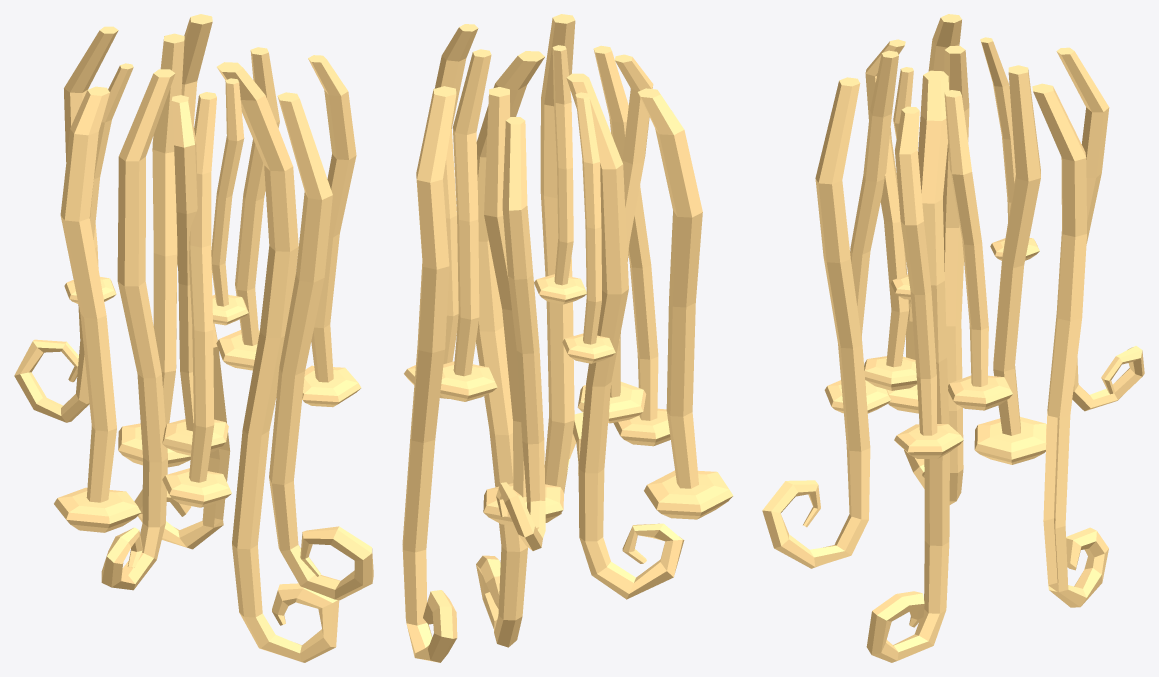
The model's file is EnokiBottom.fbx.
3 renders of one model, left to right at view 1: azimuth 30°, elevation 25°; view 2: azimuth 150°, elevation 25°; view 3: azimuth 270°, elevation 25°, orthographic. The views are drawn at different scales.
Parts seen in each view (by area): view 1: Menoki_underground; view 2: Menoki_underground; view 3: Menoki_underground.
Boxes of the visible parts, <box> form: Menoki_underground: <box>14,14,373,662</box>; Menoki_underground: <box>402,14,733,662</box>; Menoki_underground: <box>762,14,1144,662</box>.
Bounding box in the file's own units: 163 × 306 × 188.
